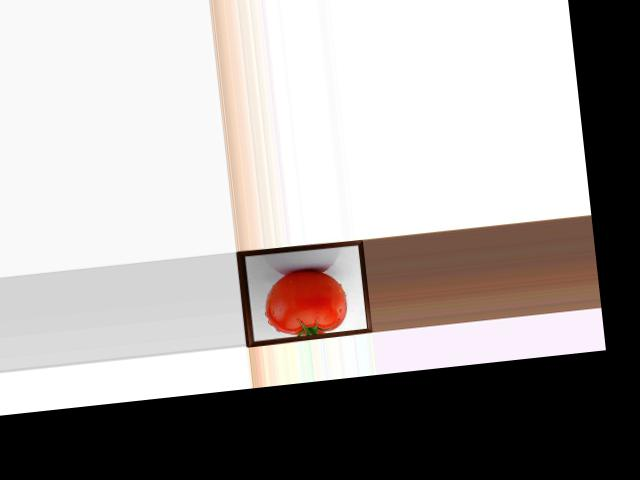tomato: (261, 265, 349, 339)
